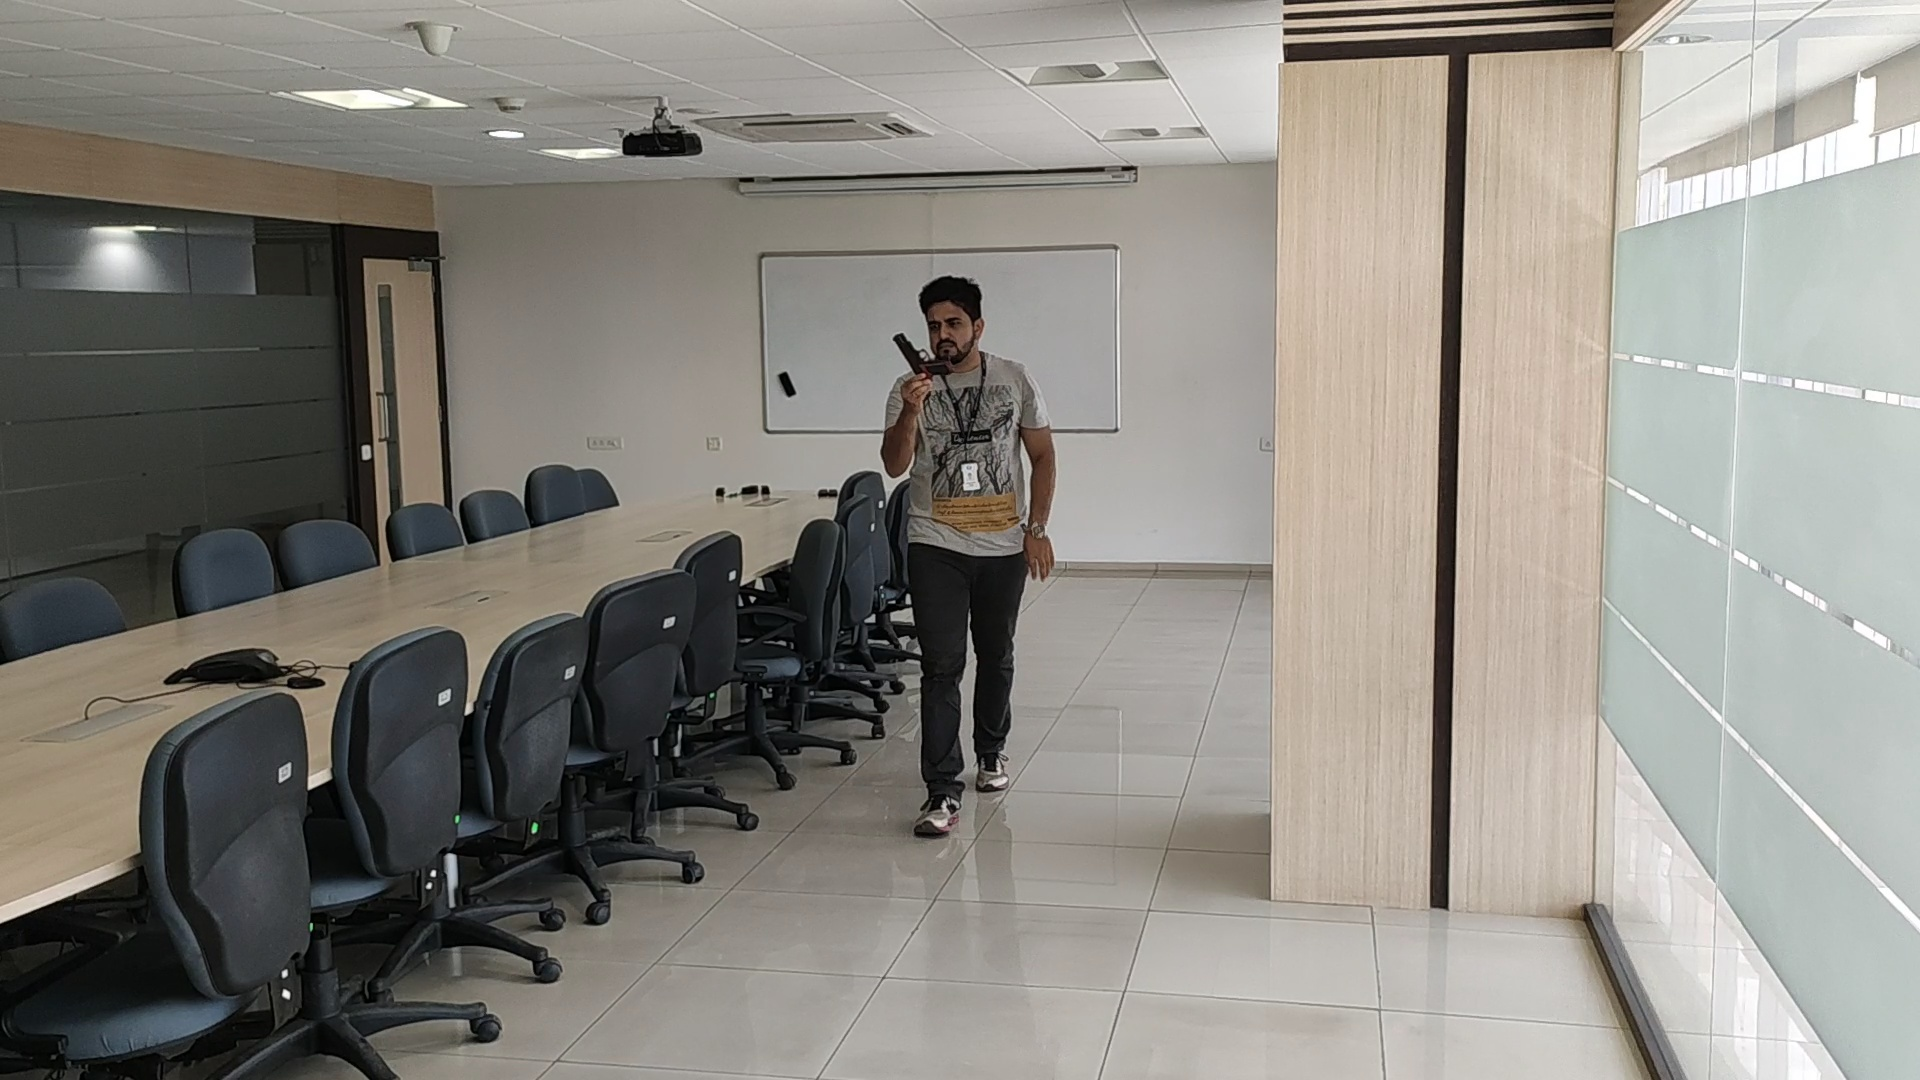gun: (891, 332, 955, 373)
